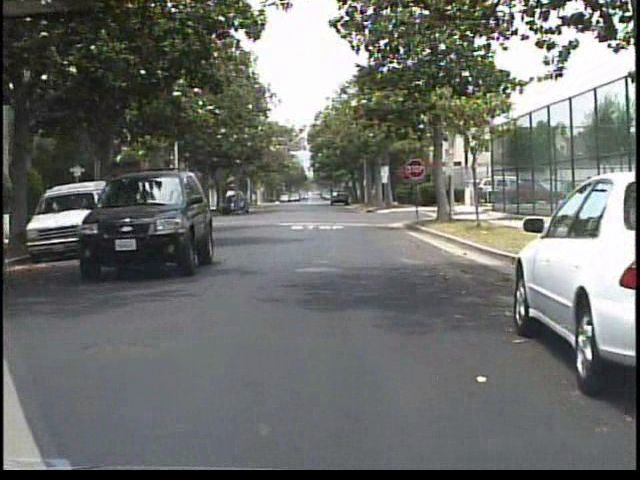person: (231, 180, 251, 222)
